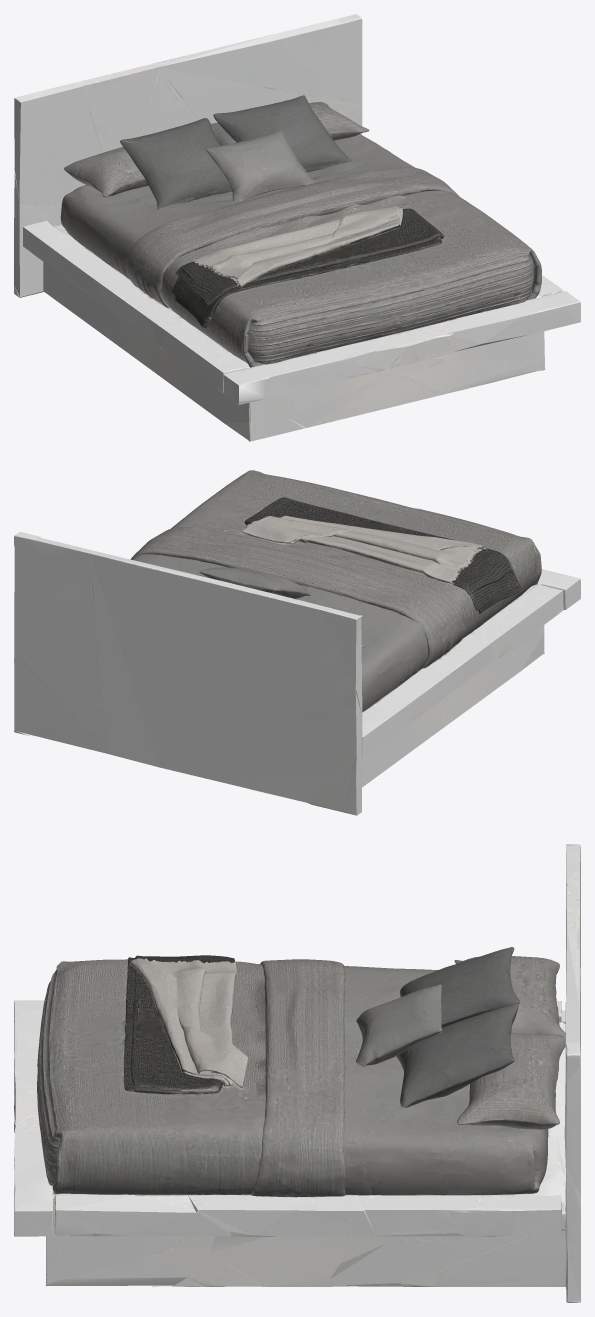
File: caravanafurniture-com-products-white-finish-platform-bed-w-b-3dc50c.glb
3 views of the same model, one above another, from view 1: azimuth 30°, elevation 25°; view 2: azimuth 150°, elevation 25°; view 3: azimuth 270°, elevation 25° (orthographic). The views are drawn at different scales.
Parts seen in each view (by area): view 1: Mesh_0; view 2: Mesh_0; view 3: Mesh_0.
Boxes of the visible parts, box(x1,y1,x2,y2) form: Mesh_0: box(14, 14, 580, 441); Mesh_0: box(14, 470, 580, 815); Mesh_0: box(14, 844, 580, 1302).
Size of the model in its own units: 1.68 by 0.9209 by 1.9.
Materials: 1 (1 with a texture image).
